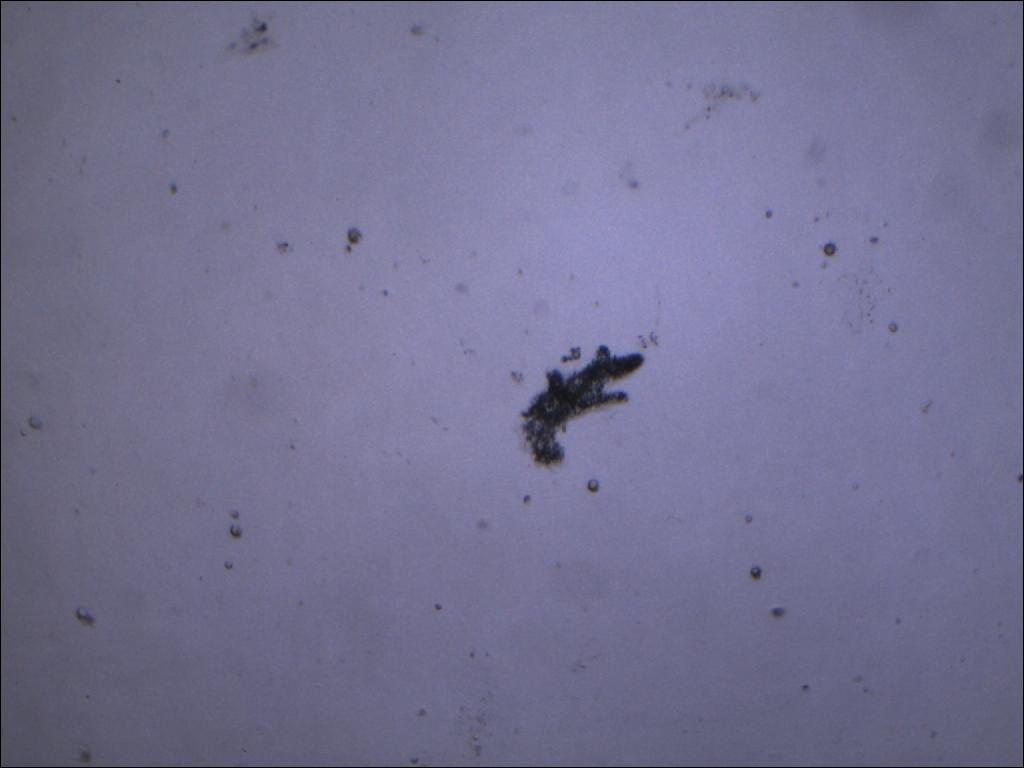amoeba: (504, 327, 660, 486)
